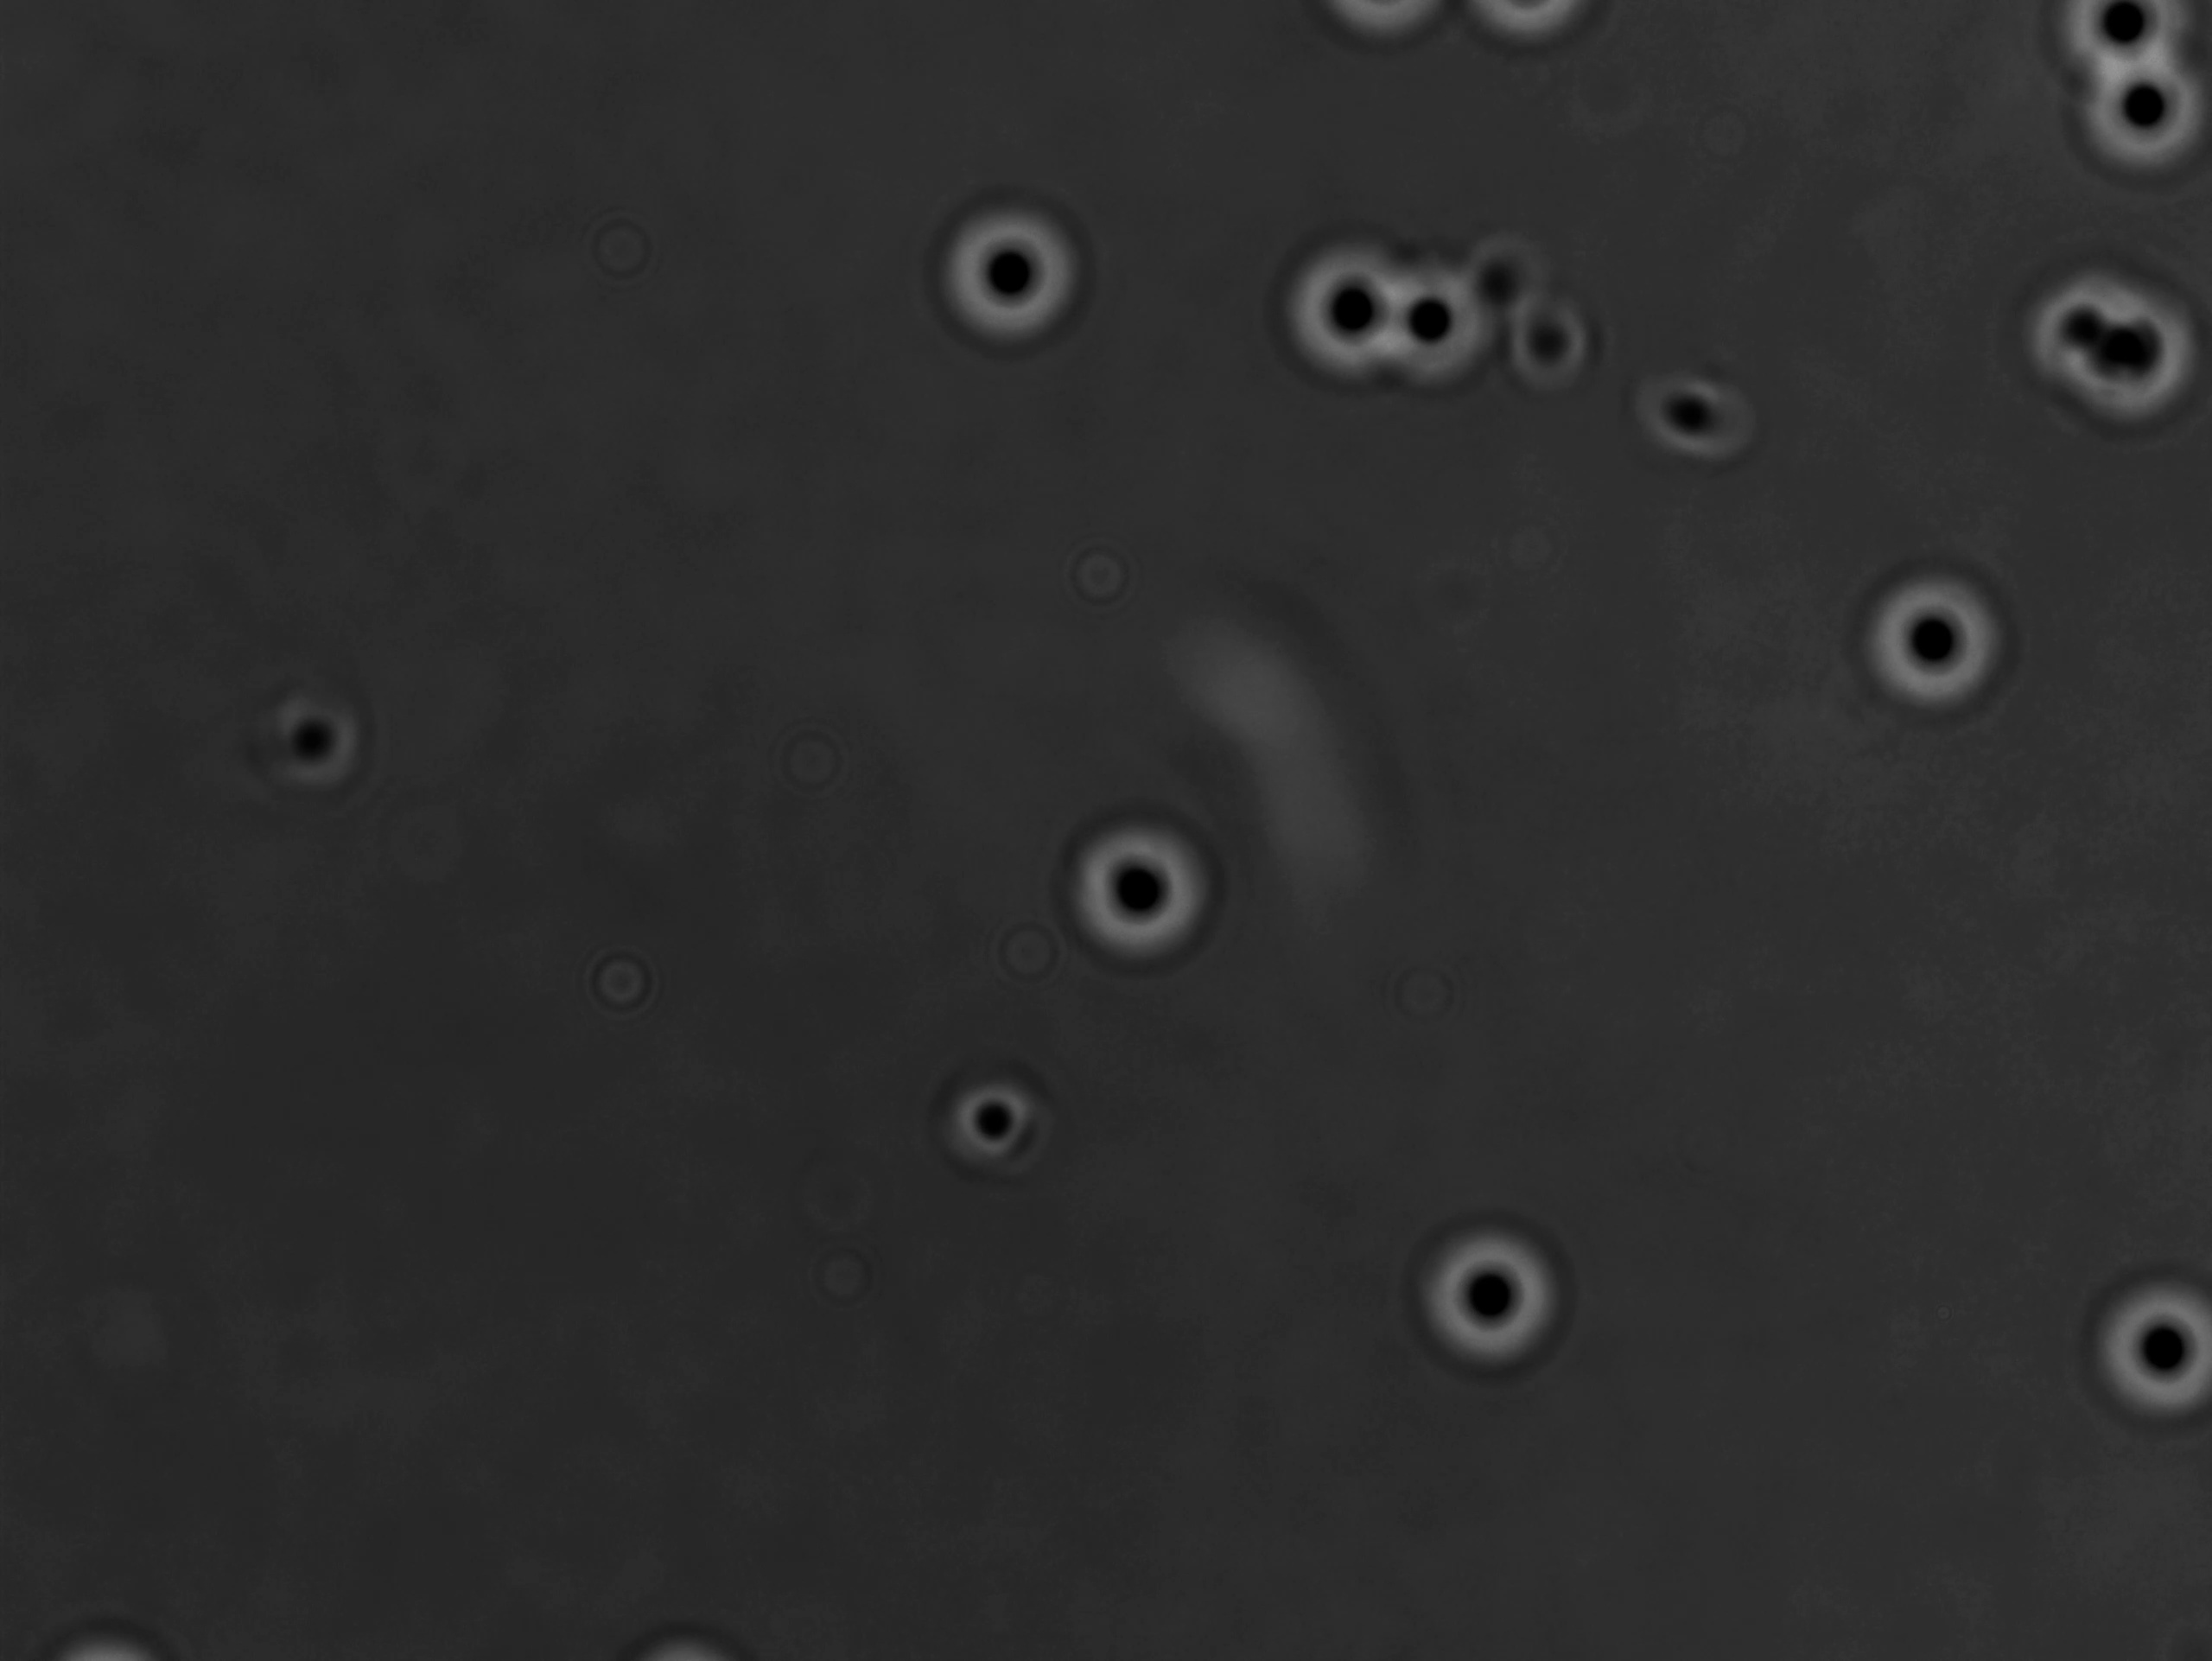depth:-40: (1404, 1197, 1586, 1382), (1851, 546, 2027, 733), (1068, 801, 1225, 977), (1275, 222, 1429, 400), (930, 183, 1089, 351), (2074, 1261, 2212, 1424), (1371, 260, 1516, 410)
